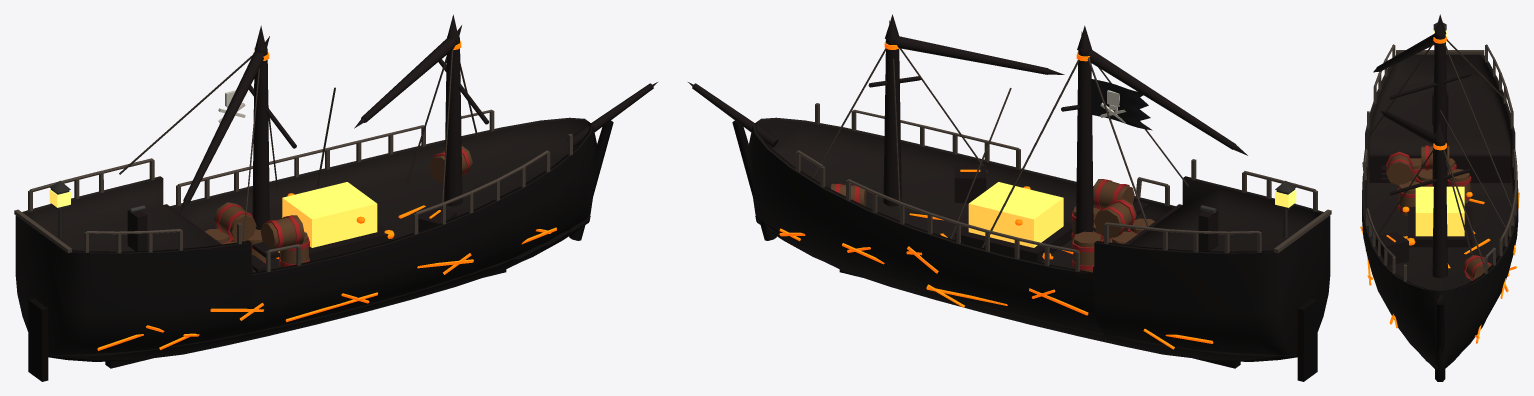
The model's file is fire-ship.glb.
3 renders of one model, left to right at view 1: azimuth 30°, elevation 25°; view 2: azimuth 150°, elevation 25°; view 3: azimuth 270°, elevation 25°, orthographic. The views are drawn at different scales.
Visible parts, largest first — view 1: Mesh_Hull, Mesh_DeckAndBulwarks, Mesh_FireCore, Mesh_MainMastStump, Mesh_ForeMastStump, Mesh_MainMastFallen, Mesh_Rudder, Mesh_HullLower, Mesh_ForeMastFallen, Mesh_HatchRim, Mesh_Barrel6, Mesh_Barrel5 (+3 smaller); view 2: Mesh_Hull, Mesh_DeckAndBulwarks, Mesh_FireCore, Mesh_MainMastStump, Mesh_ForeMastStump, Mesh_MainMastFallen, Mesh_Flag_Tattered, Mesh_Rudder, Mesh_HatchRim, Mesh_ForeMastFallen, Mesh_HullLower, Mesh_Crate (+6 smaller); view 3: Mesh_DeckAndBulwarks, Mesh_Hull, Mesh_QuarterBulkhead, Mesh_ForeMastStump, Mesh_FireCore, Mesh_MainMastStump, Mesh_HatchRim, Mesh_Crate, Mesh_Barrel6, Mesh_Stem, Mesh_MainMastFallen, Mesh_ForeMastFallen (+18 smaller).
Part boxes in pixels (box(x1,y1,x2,y2)): Mesh_Hull: box(15, 125, 597, 360); Mesh_DeckAndBulwarks: box(22, 117, 592, 275); Mesh_FireCore: box(282, 182, 377, 247); Mesh_MainMastStump: box(252, 47, 269, 229); Mesh_ForeMastStump: box(444, 36, 462, 206); Mesh_MainMastFallen: box(183, 51, 265, 203); Mesh_Rudder: box(28, 298, 48, 381); Mesh_HullLower: box(48, 216, 590, 361); Mesh_ForeMastFallen: box(361, 37, 458, 122); Mesh_HatchRim: box(308, 224, 390, 261); Mesh_Barrel6: box(260, 215, 304, 248); Mesh_Barrel5: box(214, 202, 256, 241); Mesh_Hull: box(748, 125, 1330, 360); Mesh_DeckAndBulwarks: box(753, 117, 1323, 275); Mesh_FireCore: box(968, 182, 1063, 247); Mesh_MainMastStump: box(1076, 49, 1093, 233); Mesh_ForeMastStump: box(883, 37, 901, 206); Mesh_MainMastFallen: box(1087, 50, 1235, 149); Mesh_Flag_Tattered: box(1091, 78, 1152, 130); Mesh_Rudder: box(1297, 298, 1317, 381); Mesh_HatchRim: box(955, 221, 1072, 262); Mesh_ForeMastFallen: box(894, 36, 1048, 74); Mesh_HullLower: box(755, 216, 1297, 361); Mesh_Crate: box(954, 164, 986, 203); Mesh_DeckAndBulwarks: box(1362, 54, 1518, 290); Mesh_Hull: box(1362, 200, 1518, 373); Mesh_QuarterBulkhead: box(1369, 154, 1510, 182); Mesh_ForeMastStump: box(1432, 139, 1447, 278); Mesh_FireCore: box(1415, 186, 1464, 236); Mesh_MainMastStump: box(1432, 33, 1447, 186); Mesh_HatchRim: box(1407, 206, 1472, 247); Mesh_Crate: box(1375, 231, 1408, 265); Mesh_Barrel6: box(1386, 151, 1412, 185); Mesh_Stem: box(1435, 301, 1445, 381); Mesh_MainMastFallen: box(1376, 33, 1435, 71); Mesh_ForeMastFallen: box(1383, 111, 1434, 144).
Bounding box in the file's own units: 18.16 × 8.46 × 4.9.
